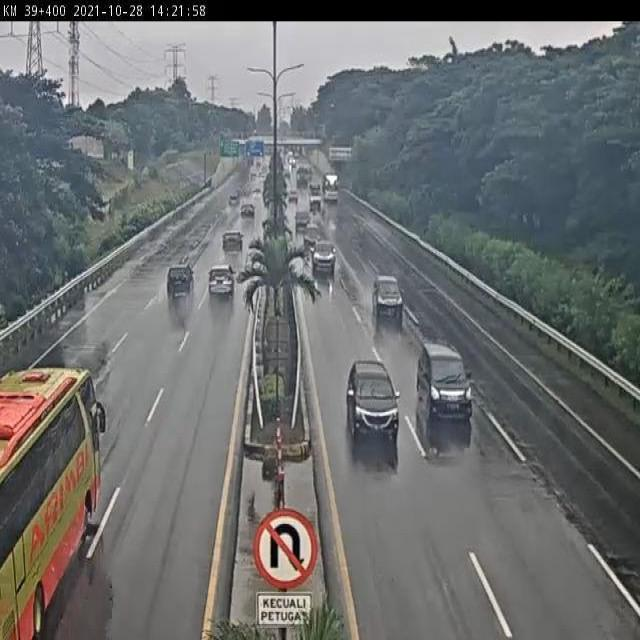big bus: (0, 361, 101, 640)
car: (412, 340, 478, 425), (346, 364, 399, 437), (372, 269, 410, 328), (204, 264, 237, 307), (166, 257, 194, 295), (311, 243, 338, 280), (219, 237, 240, 259), (301, 228, 322, 249), (237, 201, 257, 220), (294, 202, 309, 226)
